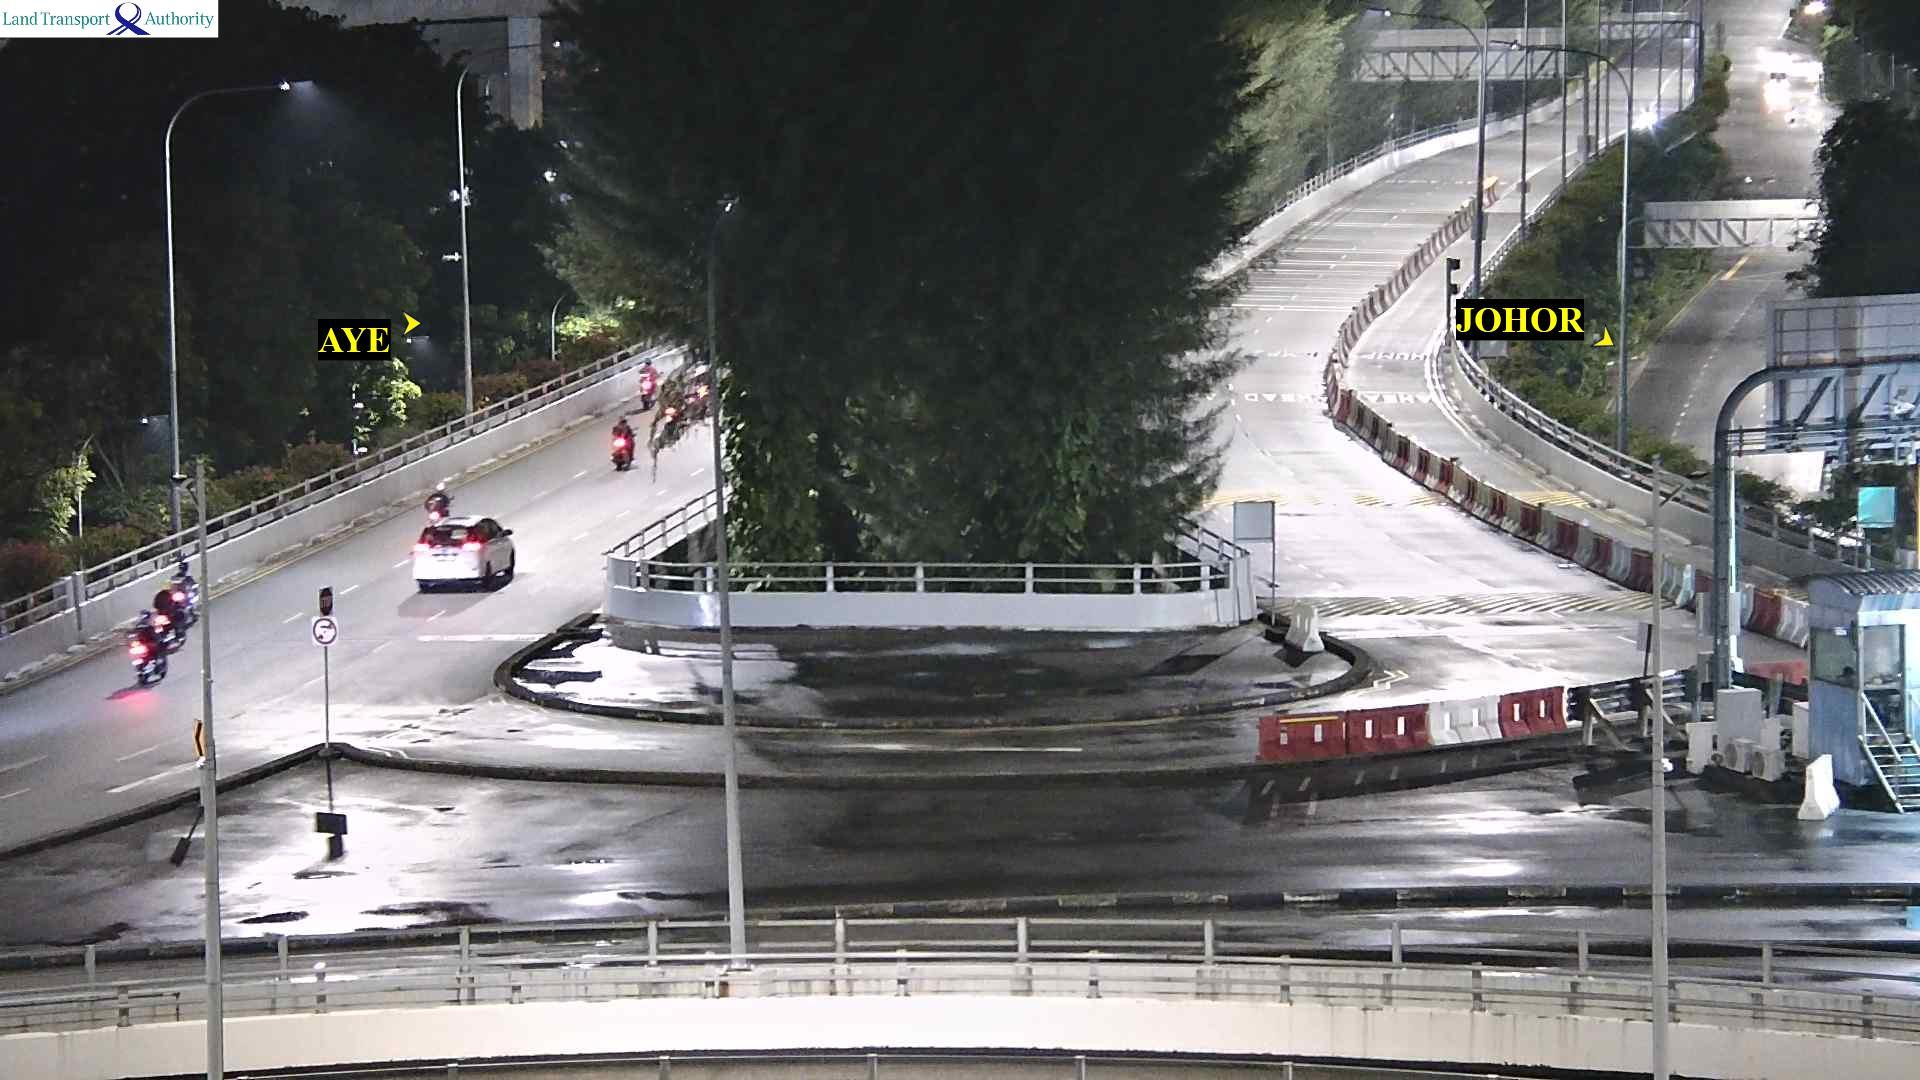vehicle-secondlink-singapore: (419, 519, 511, 600), (131, 600, 176, 660), (127, 626, 168, 685), (152, 586, 193, 641), (612, 423, 639, 472), (424, 478, 454, 514), (639, 359, 656, 400)
